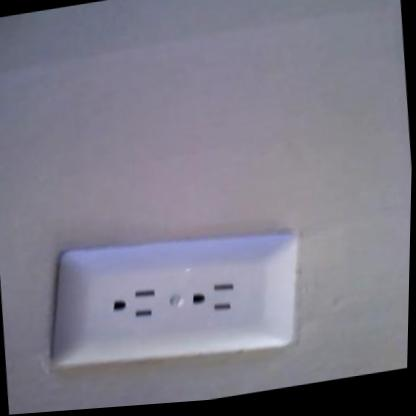OUTLET: (47, 209, 299, 383)
